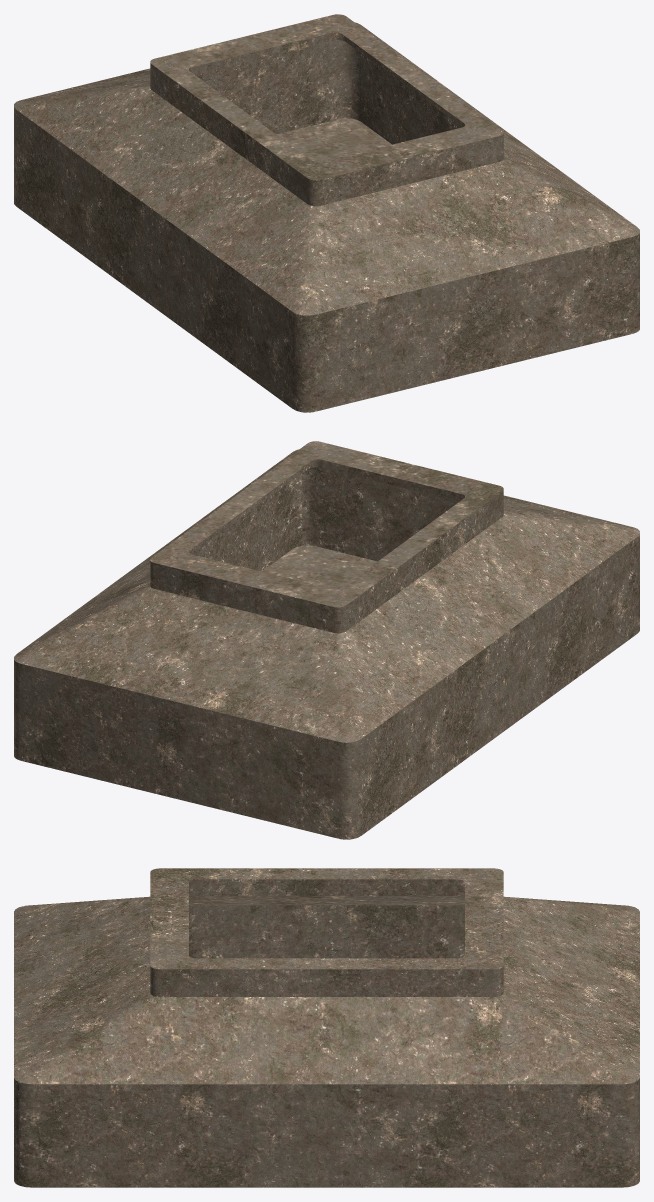
File: mdl_franch_CondorInterface_Base.gltf
3 renders of one model, top to bottom at view 1: azimuth 30°, elevation 25°; view 2: azimuth 150°, elevation 25°; view 3: azimuth 270°, elevation 25°, orthographic. The views are drawn at different scales.
Parts seen in each view (by area): view 1: base; view 2: base; view 3: base.
Boxes of the visible parts, x1,y1,x2,y2 form: base: [14, 14, 639, 412]; base: [14, 441, 639, 839]; base: [14, 868, 639, 1187].
Size of the model in its own units: 1.99 by 0.9269 by 2.93.
1 material, 1 textured.
